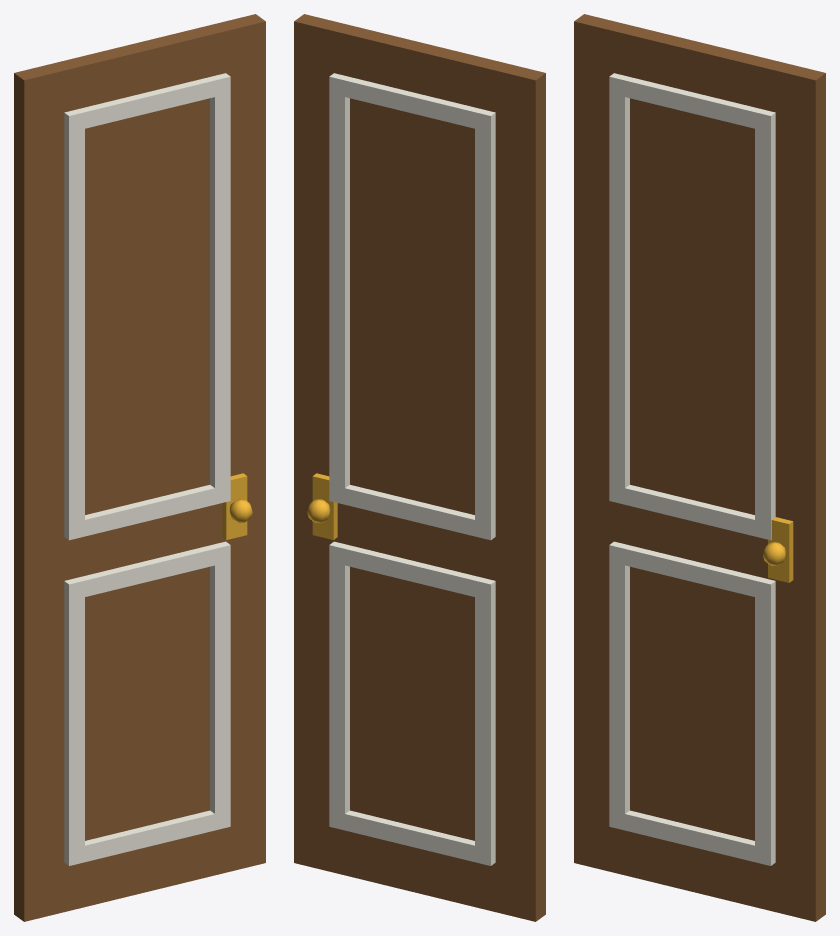
Rendered from SM_Door_ra_inner_70x230.fbx.
The picture shows the model from 3 angles, left to right: view 1: azimuth 30°, elevation 25°; view 2: azimuth 150°, elevation 25°; view 3: azimuth 330°, elevation 25°; orthographic projection.
Visible parts, largest first — view 1: SM_Door_ra_inner_70x230; view 2: SM_Door_ra_inner_70x230; view 3: SM_Door_ra_inner_70x230.
Part boxes in pixels (x1,y1,x2,y2): SM_Door_ra_inner_70x230: [14, 14, 265, 921]; SM_Door_ra_inner_70x230: [294, 14, 545, 921]; SM_Door_ra_inner_70x230: [574, 14, 825, 921].
Size of the model in its own units: 0.688 by 2.29 by 0.19.
